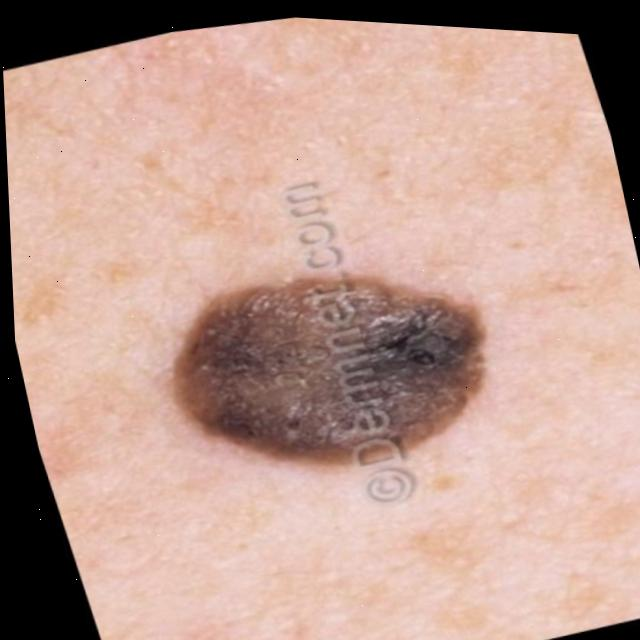Eczema: (152, 227, 514, 502)
